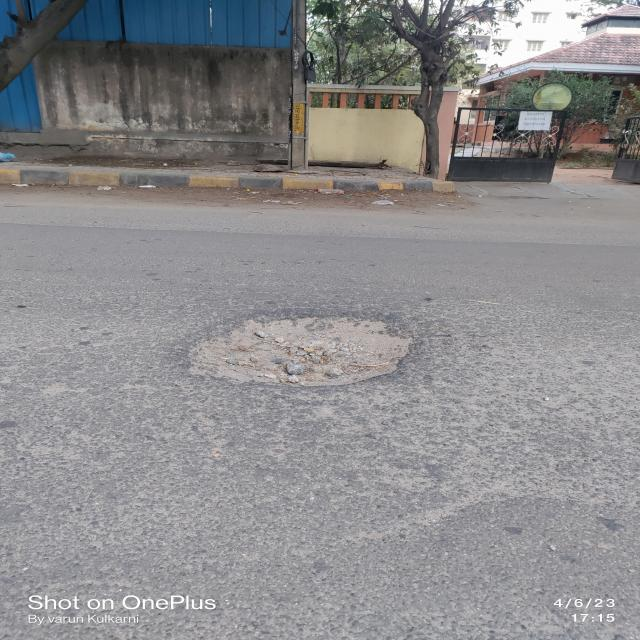potholes: (168, 295, 437, 402)
